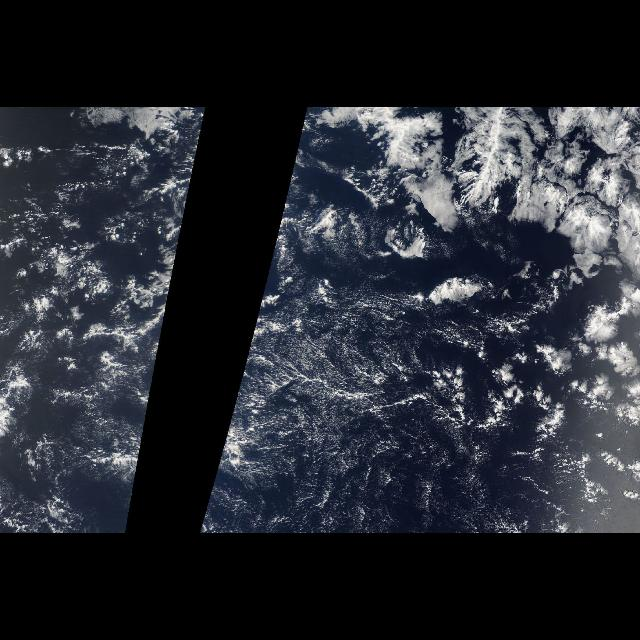Flower: (357, 111, 639, 492)
Sugar: (218, 289, 464, 527)
